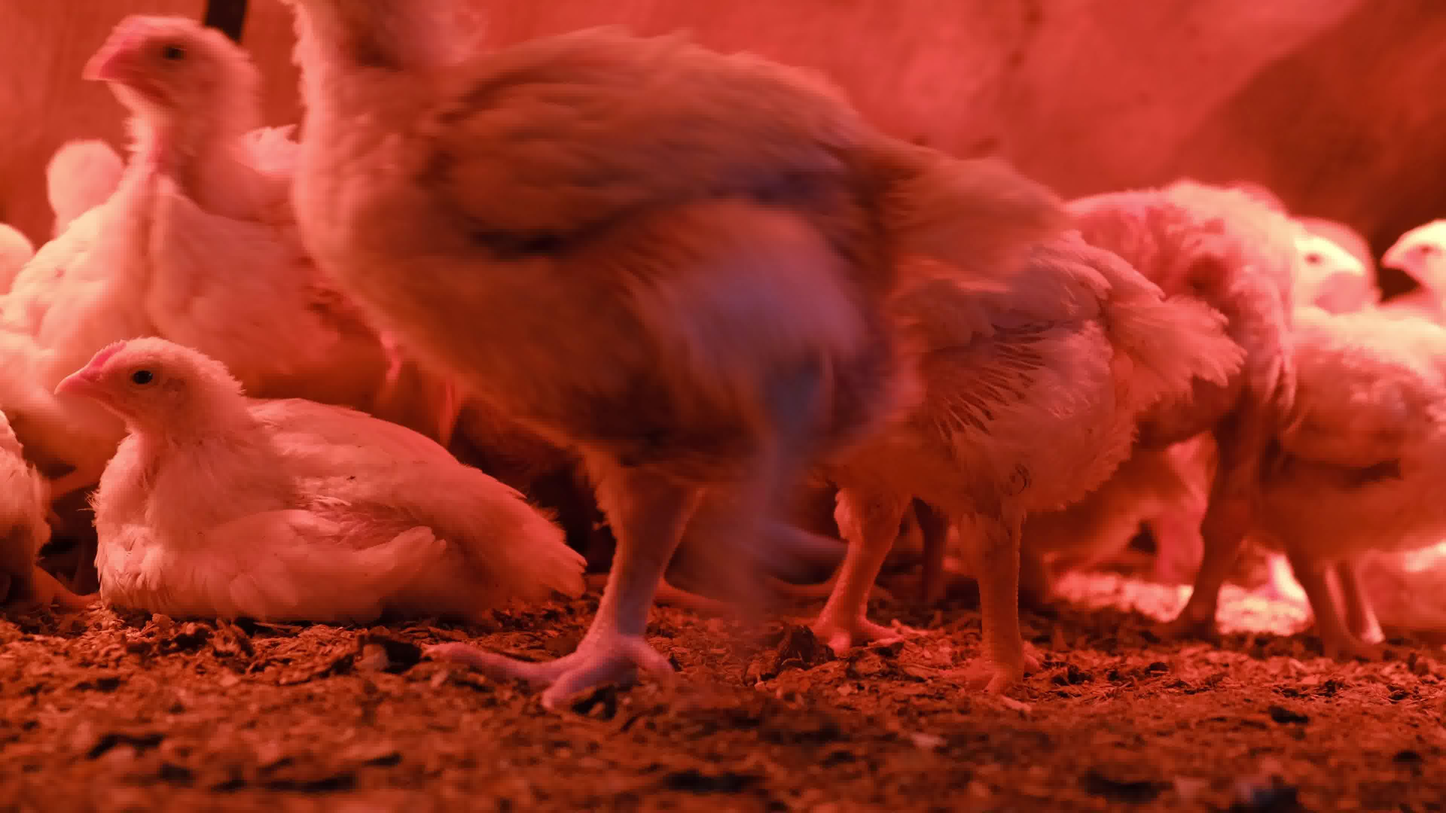AbNormal: (40, 294, 599, 646), (0, 320, 115, 668)
Normal: (232, 0, 908, 726), (870, 109, 1220, 689), (72, 2, 363, 378), (1194, 260, 1446, 647), (34, 132, 169, 248), (0, 196, 96, 350), (1277, 205, 1414, 299), (1380, 209, 1446, 324)
